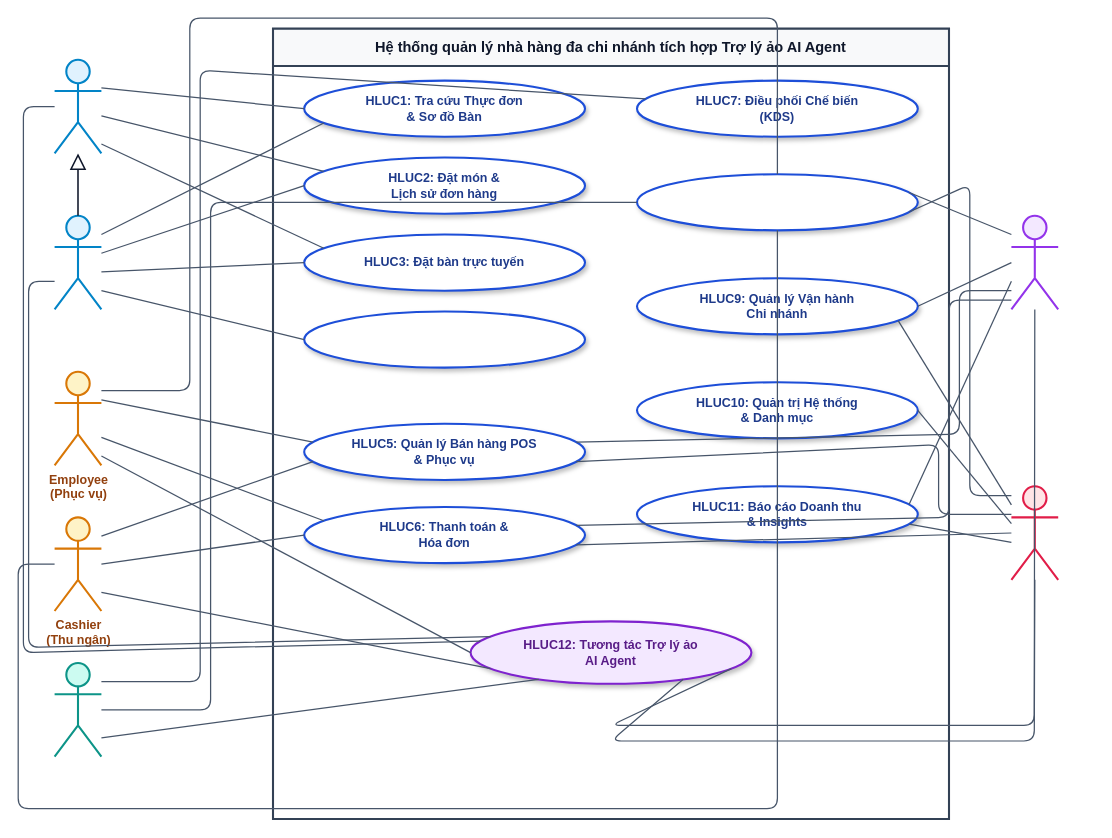
This 1112x838 diagram has some shape labels left out. The centre of each missing label's shape, as x and y in pixels:
"Admin tổng (Quản trị hệ thống)" belongs at [1034,532].
"Customer (Khách hàng)" belongs at [77,262].
"Guest (Khách vãng lai)" belongs at [77,106].
"HLUC4: Hồ sơ & Loyalty" belongs at [445,340].
"HLUC8: Ca làm việc & Chấm công" belongs at [778,203].
"Kitchen (Nhà bếp)" belongs at [77,709].
"Manager (Quản lý chi nhánh)" belongs at [1034,262].
